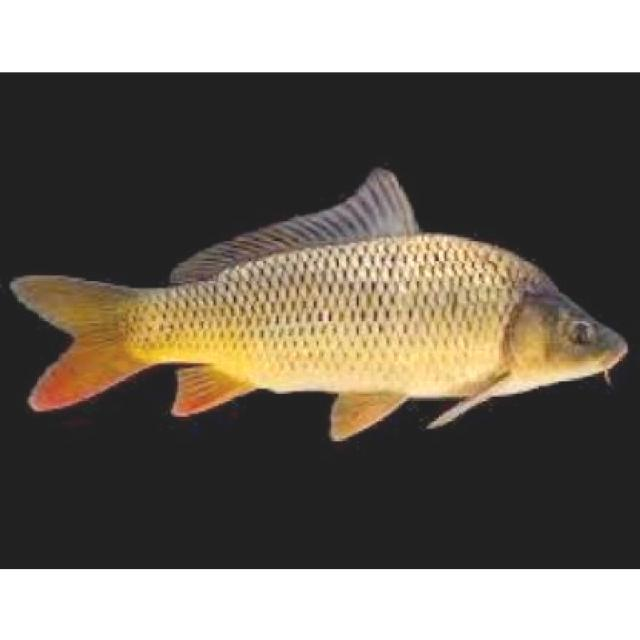ikan-mas: (8, 208, 636, 420)
